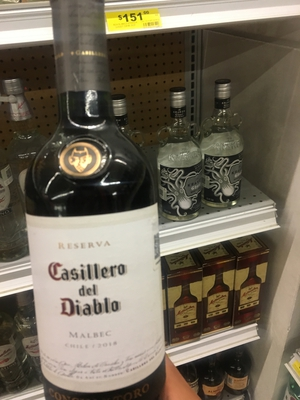casillero del diablo malbec: (21, 3, 171, 400)
